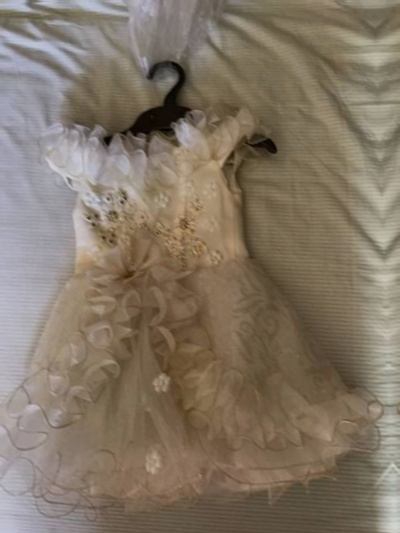Dress: (0, 57, 386, 533), (386, 41, 400, 518)
